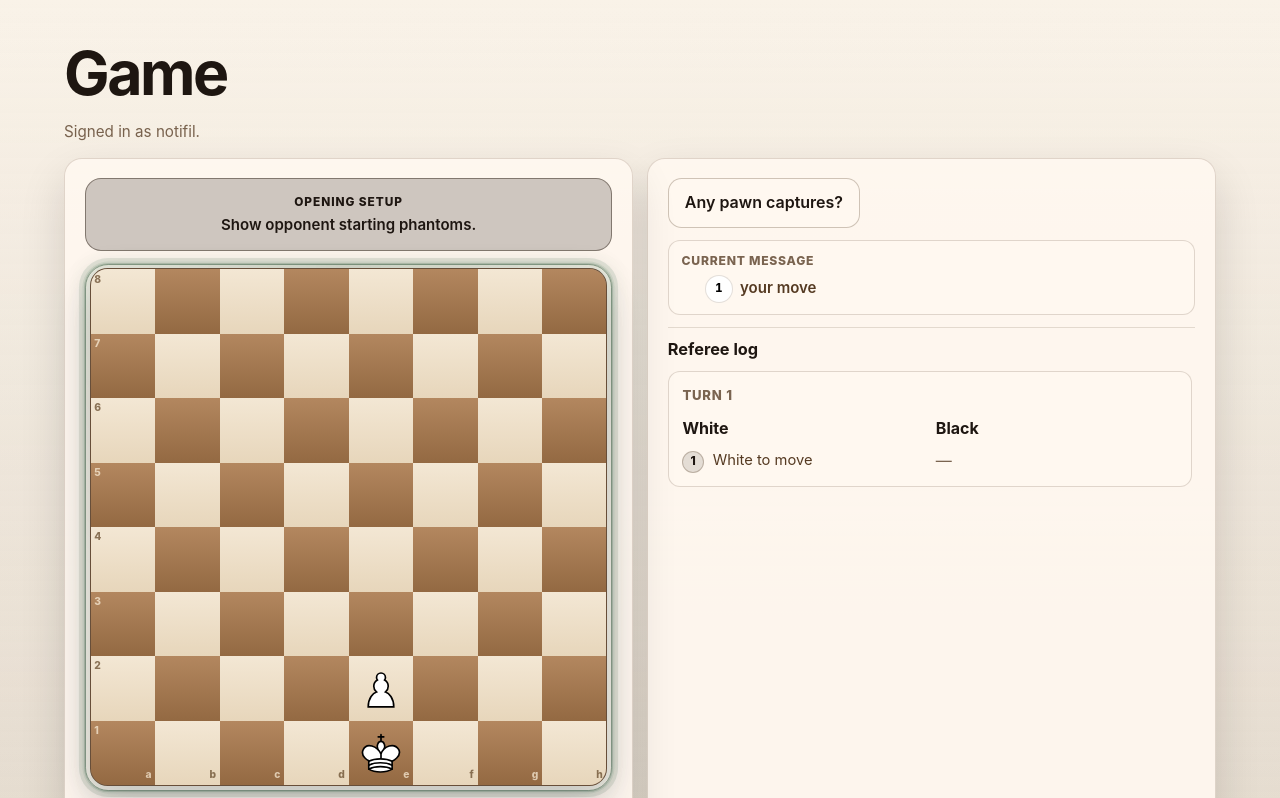
Test case: GamePage › does_not_let_fast_fallback_polling_starve_completed_state_after_submit
This screenshot has width=1280, height=798.
Click the button named "Square e2". click: coordinates (381, 688)
box: 349,656 -> 413,721
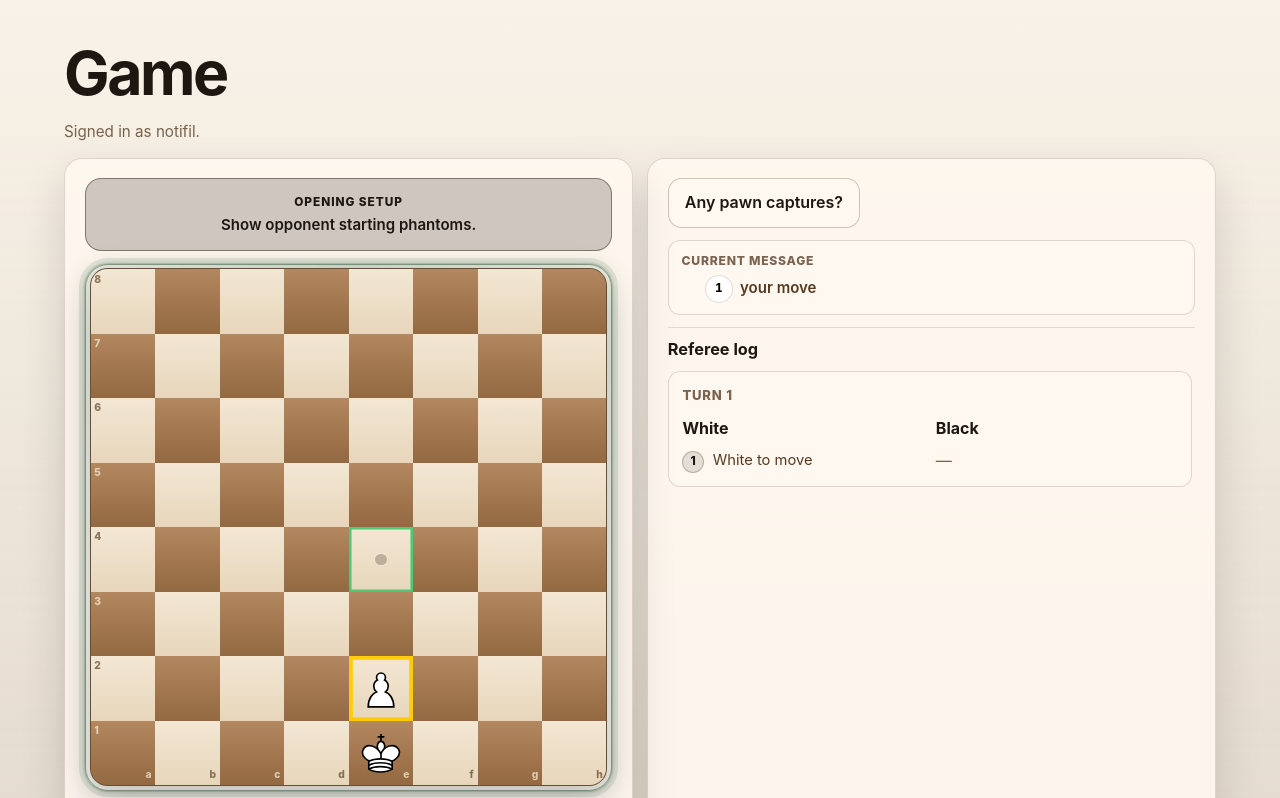
Click the button named "Square e4". click: coordinates (381, 559)
box: 349,527 -> 413,592
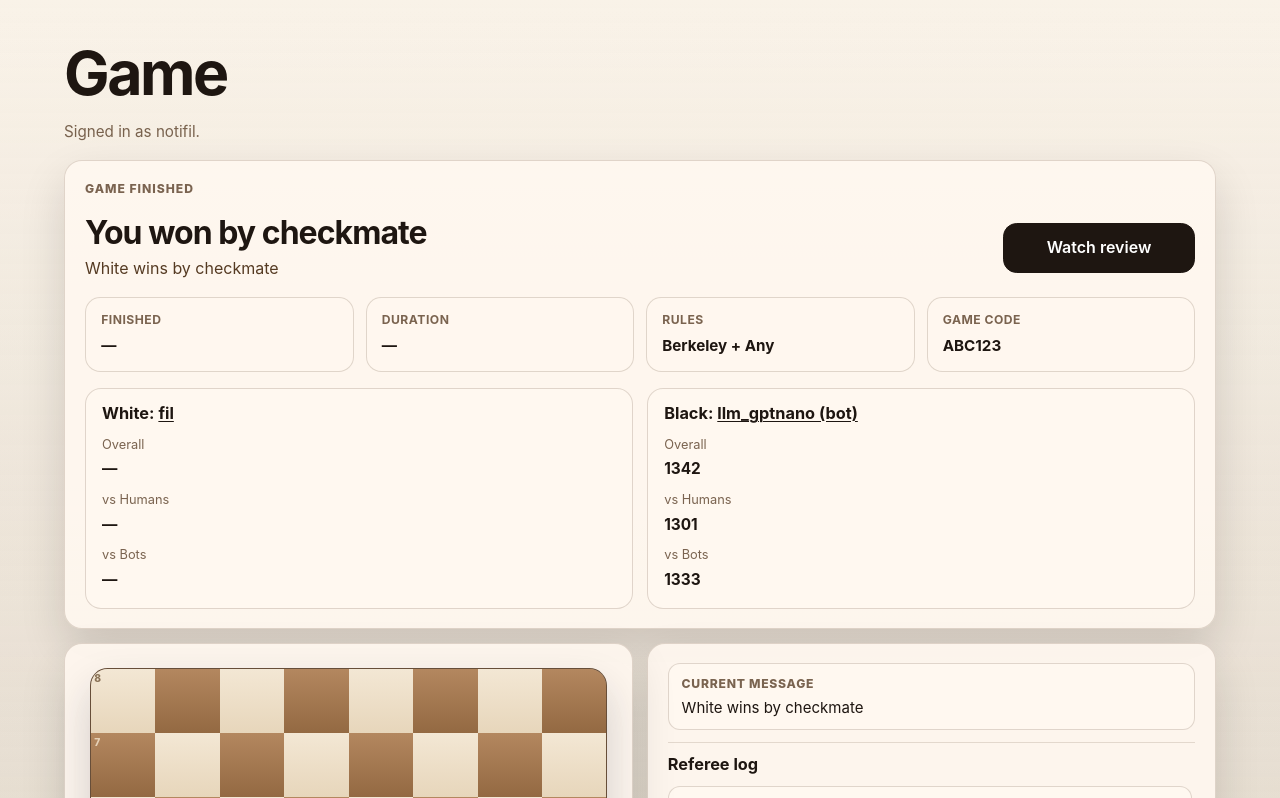
expect the heading "You won by checkmate" is shown: met, box 85,215 -> 427,250
